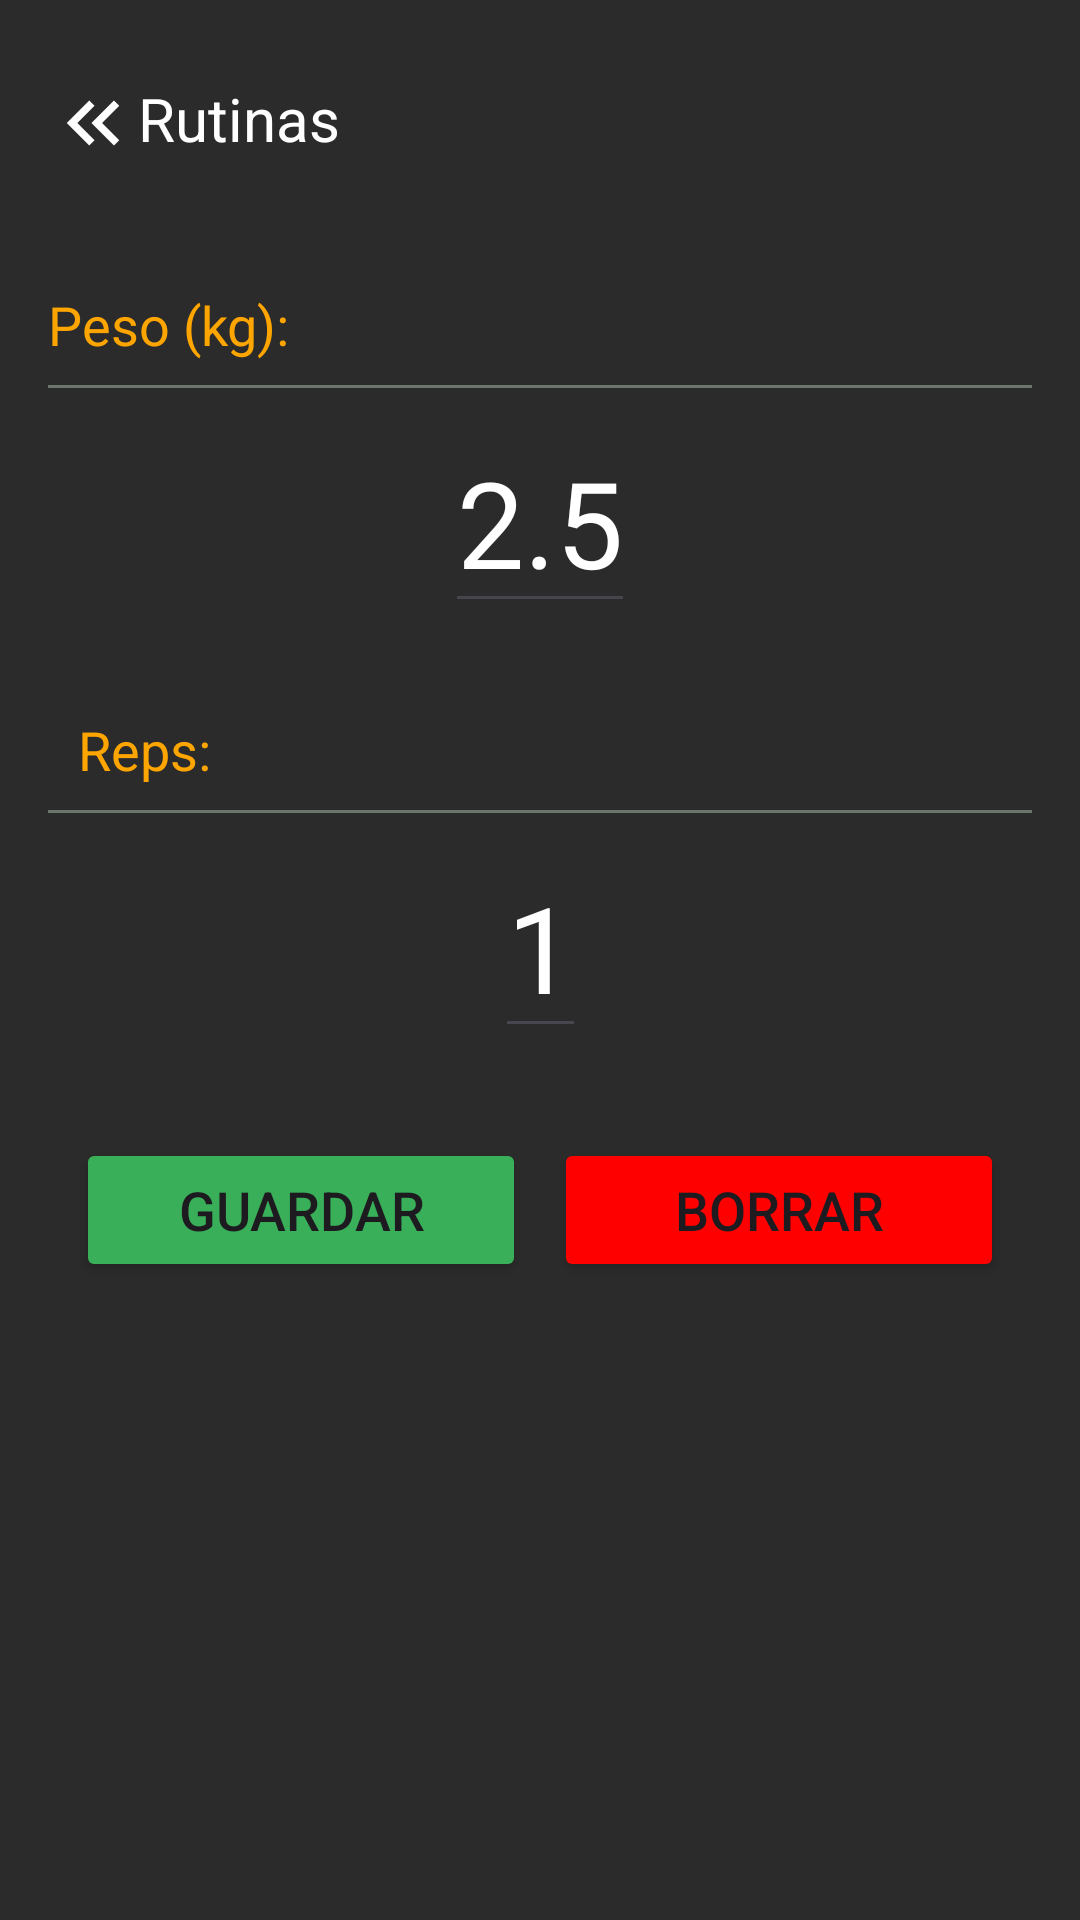

Icon bounding boxes for this 1080 x 1920 phone screenshot, format bbox=[x1, y1, x2, y2]:
arrowback: bbox=[67, 100, 119, 146]
